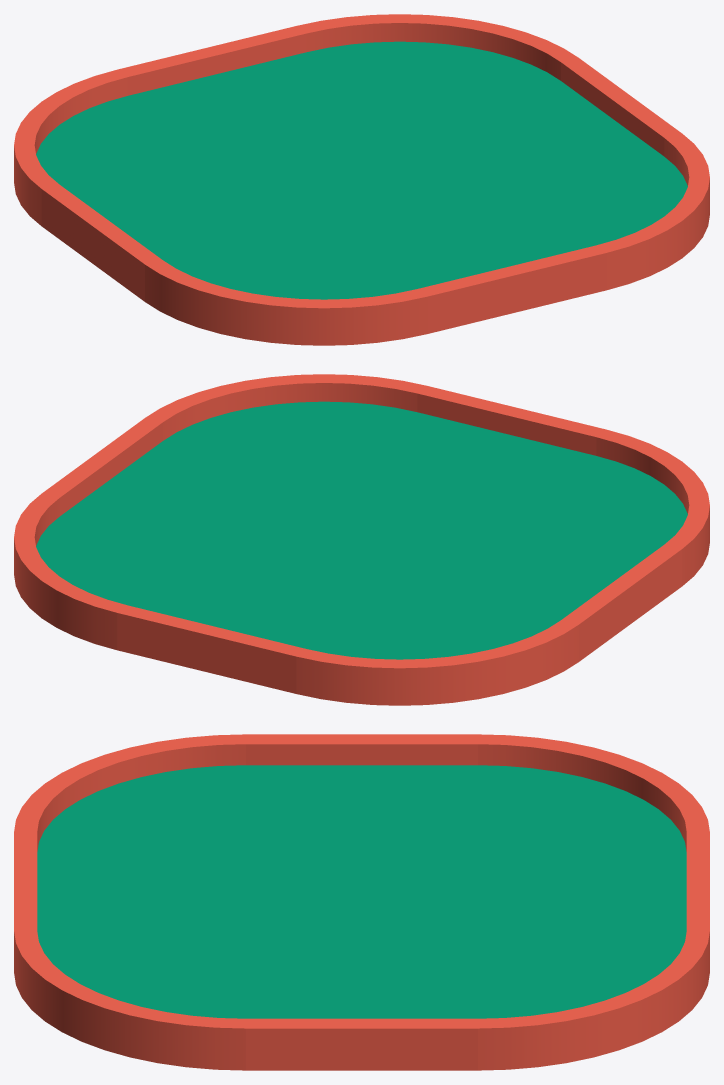
The model's file is Finished.fbx.
3 views of the same model, one above another, from view 1: azimuth 30°, elevation 25°; view 2: azimuth 150°, elevation 25°; view 3: azimuth 270°, elevation 25° (orthographic). The views are drawn at different scales.
Visible parts, largest first — view 1: mergedBlocks; view 2: mergedBlocks; view 3: mergedBlocks.
Boxes of the visible parts, x1,y1,x2,y2 form: mergedBlocks: (14,14,709,345); mergedBlocks: (14,374,709,705); mergedBlocks: (14,734,709,1070).
Size of the model in its own units: 30 by 2 by 30.
